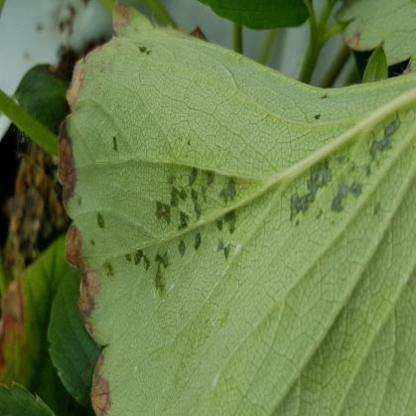Strawberry_Angular_LeafSpot: (56, 0, 408, 415)
